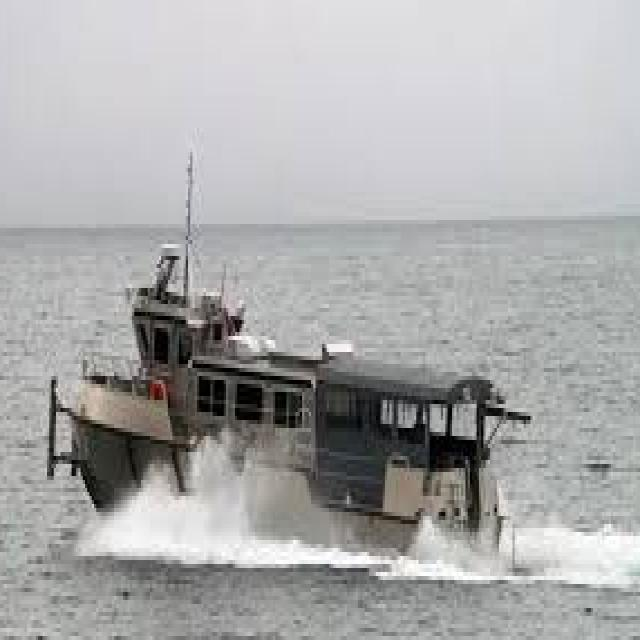houseboat: (43, 236, 514, 559)
